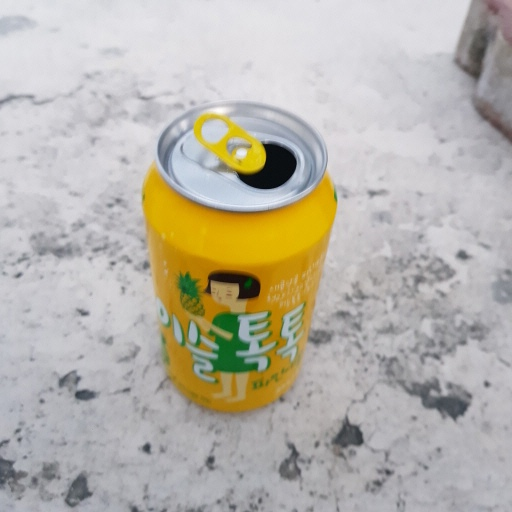Metal_0: (137, 99, 341, 412)
